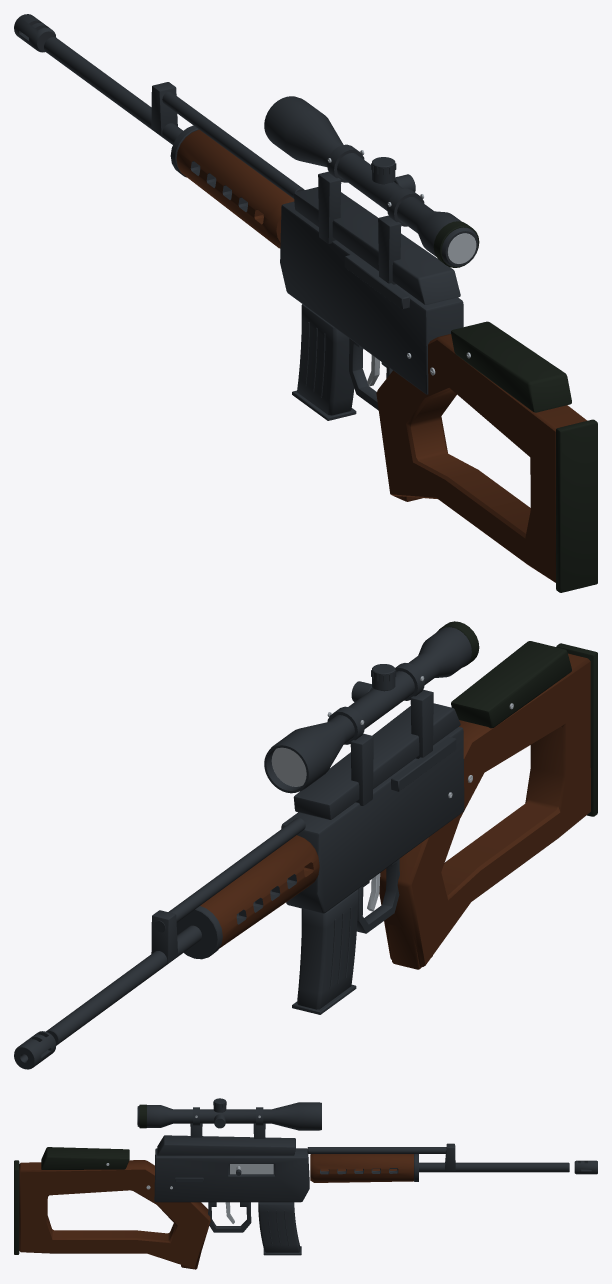
The model's file is marksman.glb.
3 renders of one model, top to bottom at view 1: azimuth 30°, elevation 25°; view 2: azimuth 150°, elevation 25°; view 3: azimuth 270°, elevation 25°, orthographic. The views are drawn at different scales.
Parts seen in each view (by area): view 1: Walnut thumbhole stock, DMR milled receiver, Scope optical housing, DMR recoil pad, Walnut ventilated handguard, DMR receiver cover, Raised cheek rest, Ten round DMR magazine, DMR barrel, DMR gas tube, Scope support.001, Scope support (+4 smaller); view 2: Walnut thumbhole stock, DMR milled receiver, Scope optical housing, Walnut ventilated handguard, DMR receiver cover, Raised cheek rest, Ten round DMR magazine, DMR barrel, DMR gas tube, DMR recoil pad, Handguard retaining band, Trigger guard (+8 smaller); view 3: Walnut thumbhole stock, DMR milled receiver, Scope optical housing, Walnut ventilated handguard, DMR receiver cover, Raised cheek rest, Ten round DMR magazine, DMR barrel, DMR gas tube, DMR recoil pad, Trigger guard, DMR bolt carrier (+2 smaller).
Part boxes in pixels (x1,y1,x2,y2): Walnut thumbhole stock: (376,334,587,582); DMR milled receiver: (280,201,463,394); Scope optical housing: (264,96,478,266); DMR recoil pad: (556,419,597,592); Walnut ventilated handguard: (176,129,294,248); DMR receiver cover: (293,187,460,304); Raised cheek rest: (451,321,571,412); Ten round DMR magazine: (297,304,354,415); DMR barrel: (44,37,183,144); DMR gas tube: (162,92,304,198); Scope support.001: (318,171,341,243); Scope support: (378,215,401,284); Walnut thumbhole stock: (379,653,590,966); DMR milled receiver: (281,727,464,913); Scope optical housing: (264,627,471,793); Walnut ventilated handguard: (200,835,319,948); DMR receiver cover: (293,703,460,819); Raised cheek rest: (451,641,571,728); Ten round DMR magazine: (297,889,358,1009); DMR barrel: (46,925,201,1045); DMR gas tube: (154,818,305,932); DMR recoil pad: (556,643,597,816); Handguard retaining band: (176,906,222,959); Trigger guard: (356,859,399,933); Walnut thumbhole stock: (19,1160,210,1268); DMR milled receiver: (154,1148,309,1202); Scope optical housing: (137,1102,321,1130); Walnut ventilated handguard: (310,1154,413,1182); DMR receiver cover: (157,1135,295,1155); Raised cheek rest: (41,1147,129,1169); Ten round DMR magazine: (258,1202,300,1252); DMR barrel: (419,1162,569,1172); DMR gas tube: (307,1147,446,1153); DMR recoil pad: (14,1160,19,1254); Trigger guard: (208,1202,251,1232); DMR bolt carrier: (230,1164,273,1174).
Size of the model in its own units: 0.09 by 0.3505 by 1.12.
